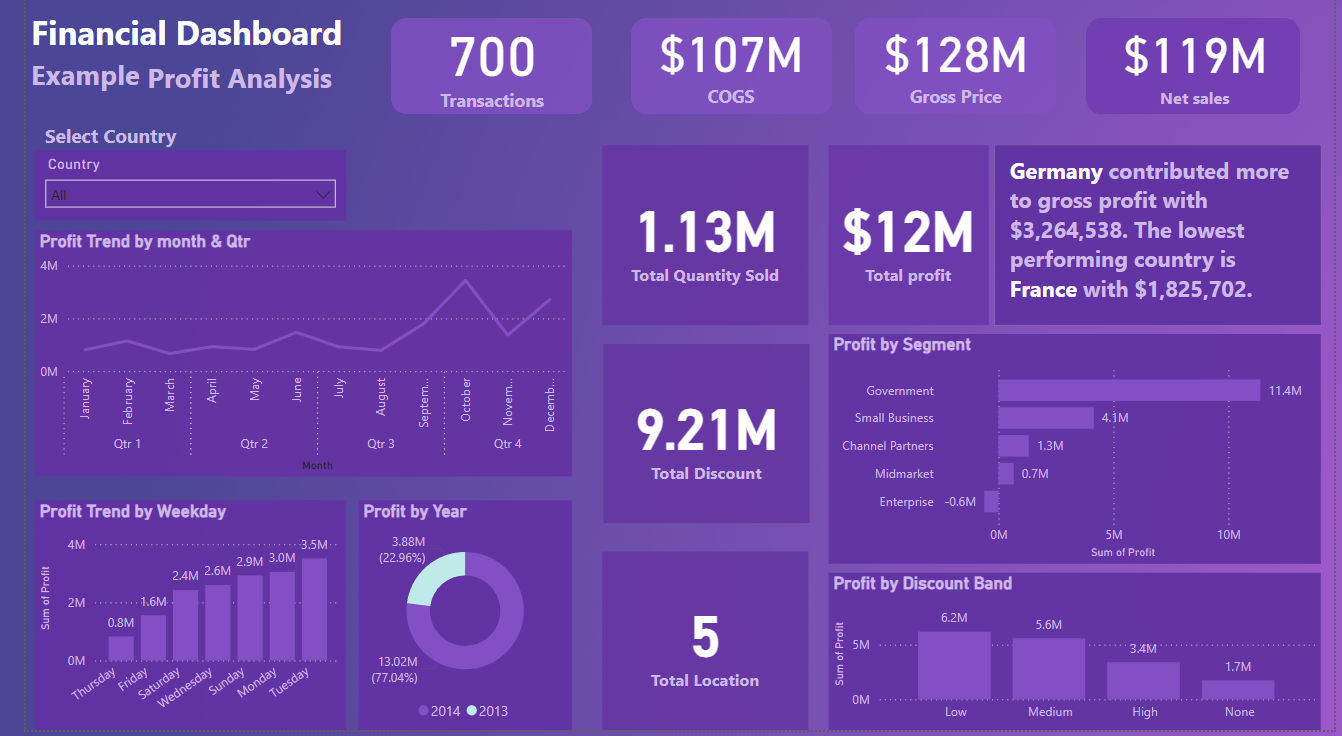

What the dashboard file says about the page in this screenshot:
{"tool":"powerbi","page":{"name":"Page 1","canvas":[1280,720],"ordinal":0},"visuals":[{"type":"card","fields":{"Values":["financials.Total profite"]},"box":[785.1,148,156.5,176.1],"z":0},{"type":"shape","box":[356.8,23.3,197.6,94.7],"z":1000},{"type":"shape","box":[591.4,23.3,197.6,94.7],"z":2000},{"type":"shape","box":[811,23.3,197.6,94.7],"z":3000},{"type":"shape","box":[1037.4,23.3,209.9,94.7],"z":4000},{"type":"card","fields":{"Values":["financials.Net sales"]},"box":[1051.1,11,183.9,109.8],"z":5000},{"type":"card","fields":{"Values":["financials.Gross Price"]},"box":[798.6,1.4,222.3,127.6],"z":6000},{"type":"card","fields":{"Values":["financials.COGS"]},"box":[577.7,4.1,225,123.5],"z":7000},{"type":"card","fields":{"Values":["financials.Transactions"]},"box":[377.4,11,156.4,108.4],"z":8000},{"type":"textbox","box":[0,11,338.9,74.1],"z":9000},{"type":"textbox","box":[0,54.9,133.1,74.1],"z":10000},{"type":"textbox","box":[113.9,59,199,60.4],"z":11000},{"type":"textbox","box":[13.7,120.8,142.7,54.9],"z":13000},{"type":"lineChart","title":"Profit Trend by month & Qtr","fields":{"Y":["Sum(financials.Profit)"],"Category":["financials.Date.Variation.Date Hierarchy.Quarter","financials.Date.Variation.Date Hierarchy.Month"]},"box":[8.6,231.1,525.8,240.9],"z":14000},{"type":"card","fields":{"Values":["Sum(financials.Units Sold)"]},"box":[563.7,148,201.8,176.1],"z":15000},{"type":"columnChart","title":"Profit Trend by Weekday","fields":{"Category":["financials.Day Name"],"Y":["Sum(financials.Profit)"]},"box":[8.6,495.2,304.5,225],"z":16000},{"type":"donutChart","title":"Profit by Year","fields":{"Y":["Sum(financials.Profit)"],"Category":["financials.Year"]},"box":[325.3,495.2,209.1,225],"z":17000},{"type":"card","fields":{"Values":["financials.Total Discount"]},"box":[564.9,342.4,201.8,174.9],"z":18000},{"type":"card","fields":{"Values":["Count(financials.Country)"]},"box":[563.7,545.4,201.8,174.9],"z":19000},{"type":"clusteredBarChart","title":"Profit by Segment","fields":{"Y":["Sum(financials.Profit)"],"Category":["financials.Segment"]},"box":[785.1,332.6,481.8,225],"z":19002},{"type":"columnChart","title":"Profit by Discount Band","fields":{"Category":["financials.Discount Band"],"Y":["Sum(financials.Profit)"]},"box":[785.1,566.2,481.8,154.1],"z":19003},{"type":"shape","box":[947.7,148,319.2,176.1],"z":19004},{"type":"textbox","box":[957.5,152.9,299.6,167.5],"z":19005},{"type":"slicer","fields":{"Values":["financials.Country"]},"box":[8.6,152.9,304.5,68.5],"z":19006}]}

Visuals, with their boxes in screenshot pixels (x1, y1, x2, y2), scaled from the page's 1280x720 canvas onto the 1342x736 screenshot:
card - financials.Total profite: locate(823, 151, 987, 331)
shape: locate(374, 24, 581, 121)
shape: locate(620, 24, 827, 121)
shape: locate(850, 24, 1057, 121)
shape: locate(1088, 24, 1308, 121)
card - financials.Net sales: locate(1102, 11, 1295, 123)
card - financials.Gross Price: locate(837, 1, 1070, 132)
card - financials.COGS: locate(606, 4, 842, 130)
card - financials.Transactions: locate(396, 11, 560, 122)
textbox: locate(0, 11, 355, 87)
textbox: locate(0, 56, 140, 132)
textbox: locate(119, 60, 328, 122)
textbox: locate(14, 123, 164, 180)
"Profit Trend by month & Qtr" lineChart: locate(9, 236, 560, 482)
card - Sum(financials.Units Sold): locate(591, 151, 803, 331)
"Profit Trend by Weekday" columnChart: locate(9, 506, 328, 735)
"Profit by Year" donutChart: locate(341, 506, 560, 735)
card - financials.Total Discount: locate(592, 350, 804, 529)
card - Count(financials.Country): locate(591, 558, 803, 735)
"Profit by Segment" clusteredBarChart: locate(823, 340, 1328, 570)
"Profit by Discount Band" columnChart: locate(823, 579, 1328, 735)
shape: locate(994, 151, 1328, 331)
textbox: locate(1004, 156, 1318, 328)
slicer - financials.Country: locate(9, 156, 328, 226)
